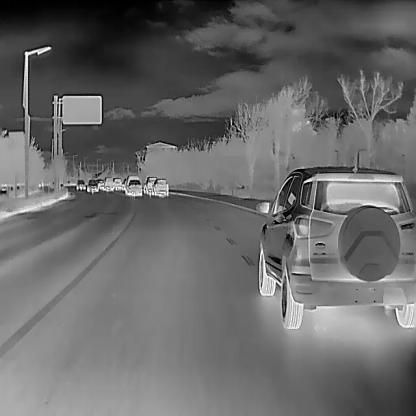car: (255, 160, 415, 329), (153, 178, 168, 196), (126, 179, 142, 195), (143, 176, 156, 194), (87, 178, 98, 192), (104, 176, 113, 190), (75, 177, 85, 189), (112, 177, 121, 189), (97, 177, 104, 189)
